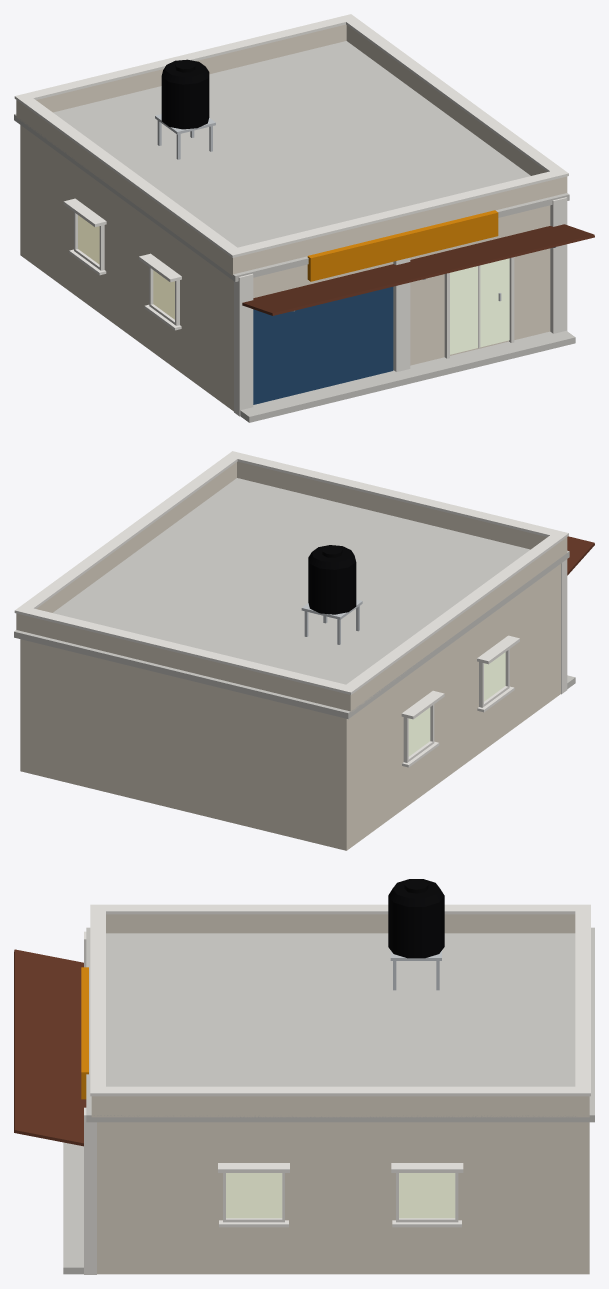
File: SM_Maison_Populaire_B.fbx
3 views of the same model, one above another, from view 1: azimuth 30°, elevation 25°; view 2: azimuth 150°, elevation 25°; view 3: azimuth 270°, elevation 25° (orthographic). The views are drawn at different scales.
Visible parts, largest first — view 1: SM_Maison_Populaire_B; view 2: SM_Maison_Populaire_B; view 3: SM_Maison_Populaire_B.
Boxes of the visible parts, <box> form: SM_Maison_Populaire_B: <box>14,14,594,422</box>; SM_Maison_Populaire_B: <box>14,451,594,850</box>; SM_Maison_Populaire_B: <box>14,879,594,1274</box>.
Bounding box in the file's own units: 858 × 524 × 1074.
